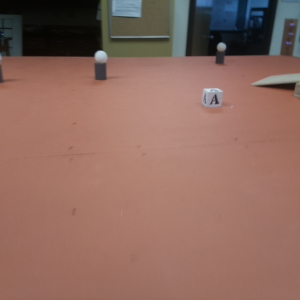obstacle: (91, 50, 110, 83), (215, 42, 228, 64), (1, 61, 5, 86)
slope: (252, 70, 300, 86)
